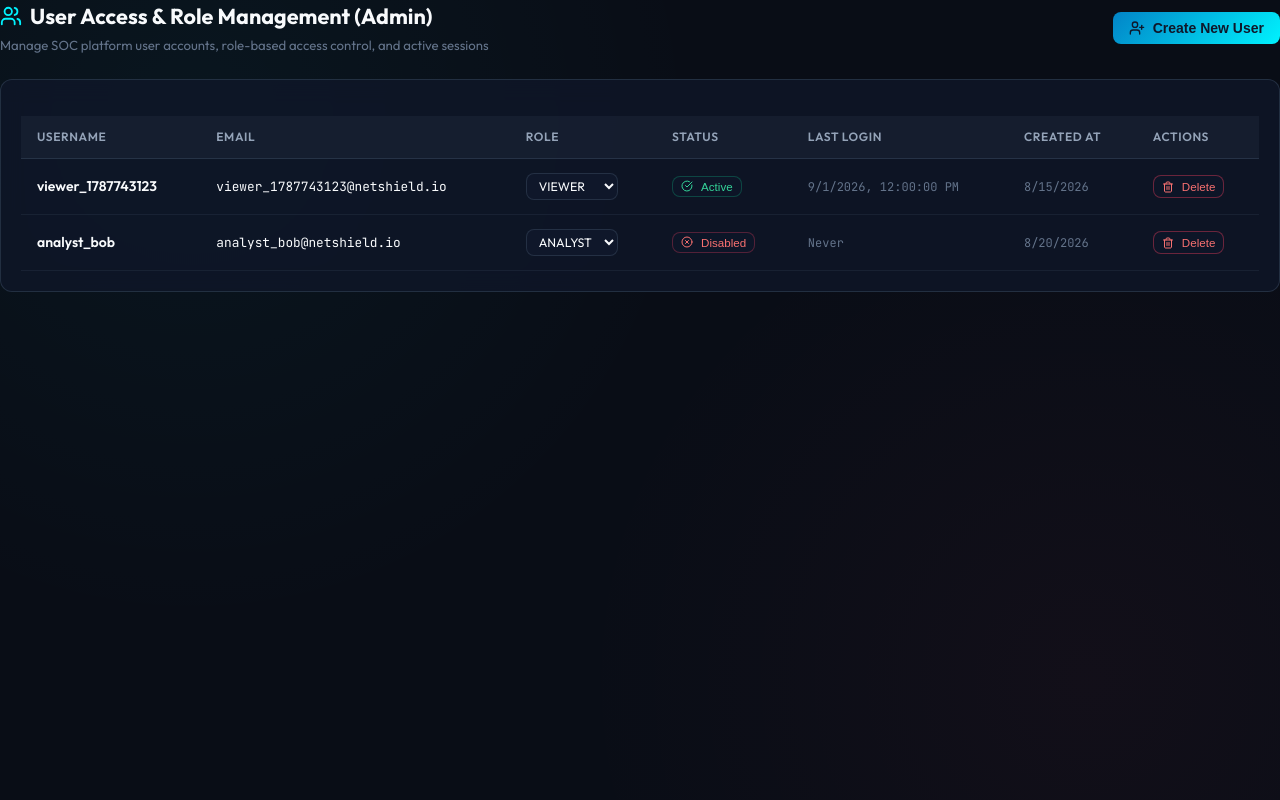
Test: UsersPage Custom Delete Confirmation Modal Suite › 2. Clicking Delete opens custom in-app confirmation modal with role="dialog"
Expected: the text "viewer_1787743123" is shown, [21,159,200,215]
Click the button with aria-label "Delete user viewer_1787743123".
click(1189, 187)  # box [1153,175,1224,198]
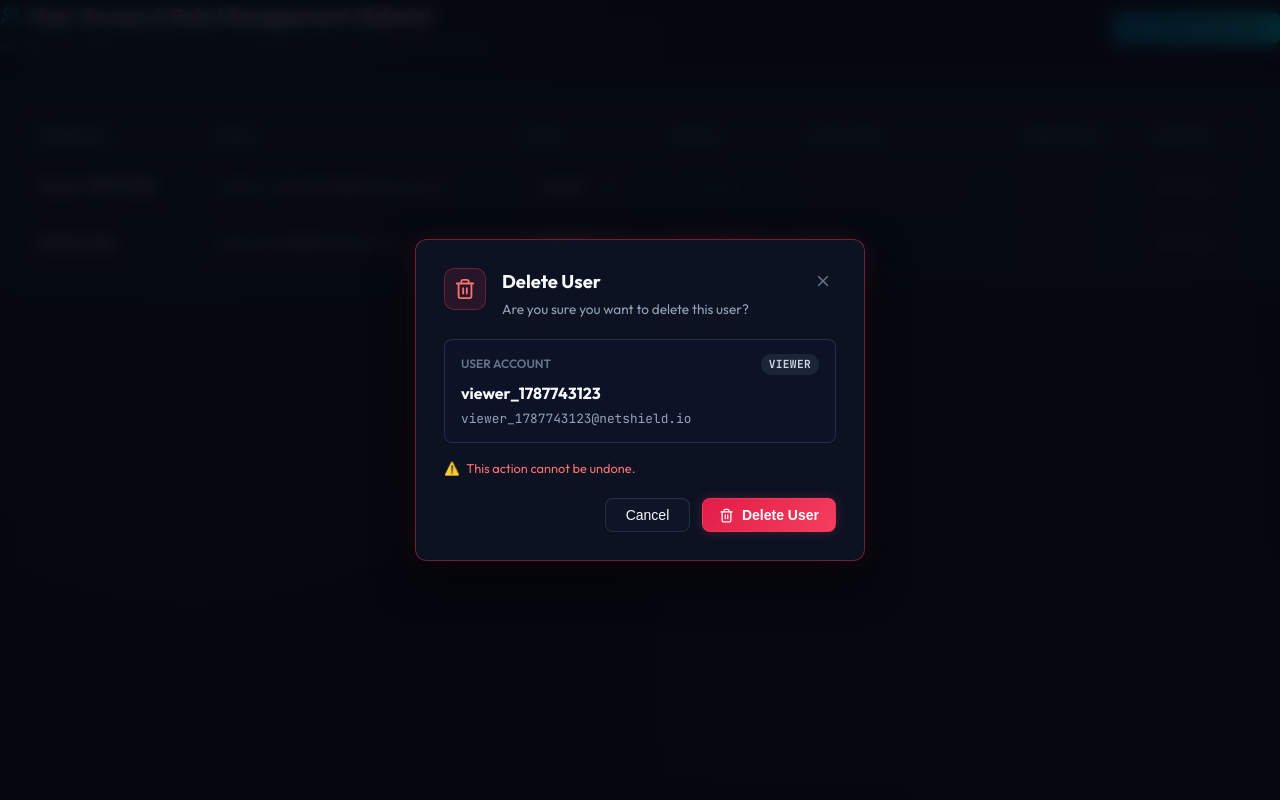
Expected: the dialog is shown, [415,239,865,561]
